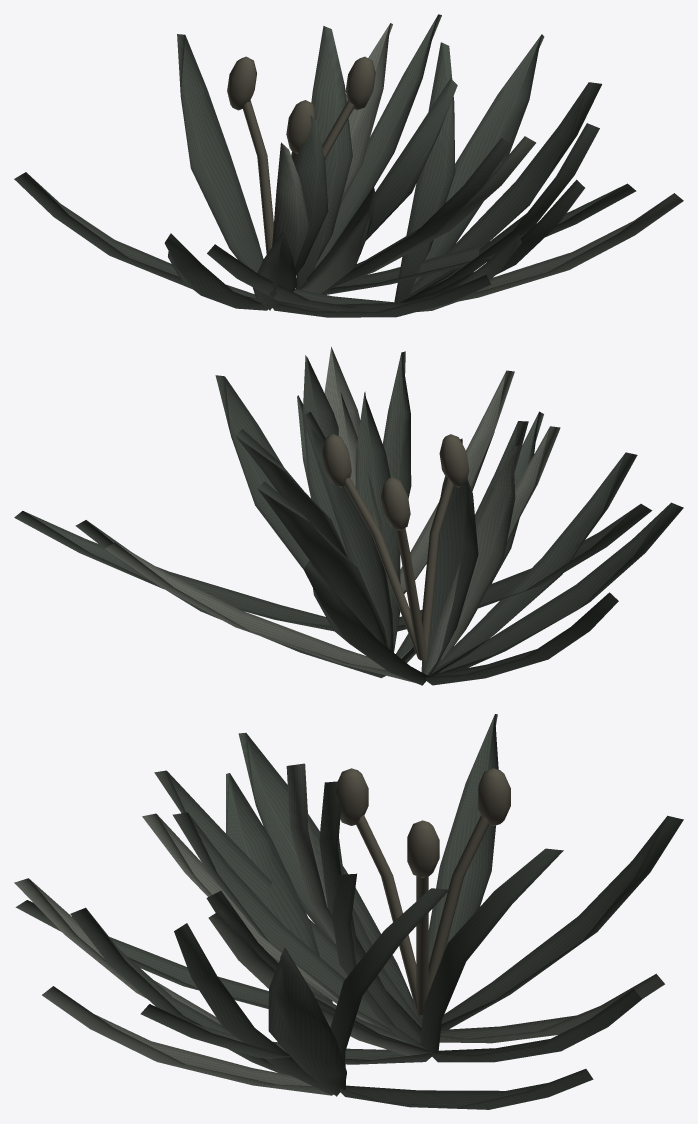
The model's file is grass_tuft_winter.glb.
3 views of the same model, one above another, from view 1: azimuth 30°, elevation 25°; view 2: azimuth 150°, elevation 25°; view 3: azimuth 270°, elevation 25° (orthographic). The views are drawn at different scales.
Parts seen in each view (by area): view 1: grass_tuft_winter; view 2: grass_tuft_winter; view 3: grass_tuft_winter.
Boxes of the visible parts, <box> form: grass_tuft_winter: <box>14,14,683,317</box>; grass_tuft_winter: <box>14,347,683,685</box>; grass_tuft_winter: <box>14,714,683,1109</box>.
Size of the model in its own units: 1.54 by 0.5905 by 1.3.
3 materials, 3 textured.
